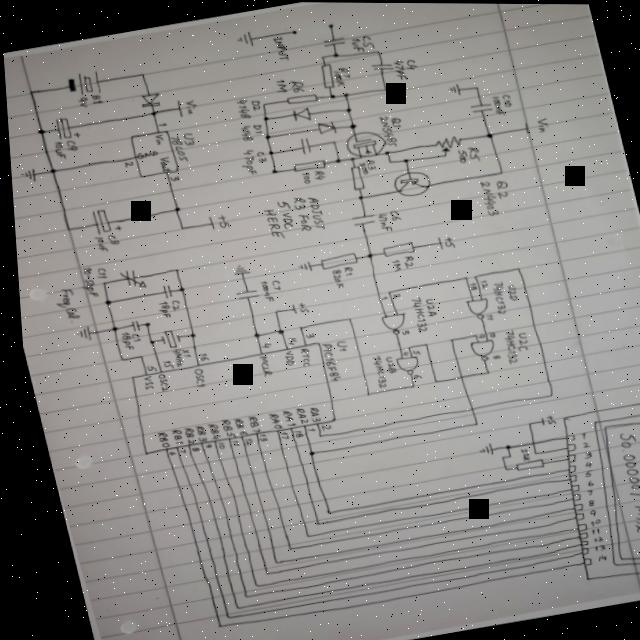capacitor: (86, 204, 121, 234), (52, 114, 80, 140), (114, 266, 144, 290), (346, 210, 374, 226), (229, 285, 256, 299), (320, 33, 347, 46), (467, 98, 491, 112), (295, 134, 311, 154), (369, 59, 393, 71), (156, 282, 171, 298), (123, 317, 137, 330)
crossover: (451, 371, 461, 378), (463, 404, 470, 410), (523, 439, 531, 444)
diode: (137, 90, 163, 108), (289, 104, 311, 122), (314, 117, 336, 134)
ground: (233, 28, 255, 47), (16, 165, 38, 184), (68, 322, 88, 341), (471, 439, 490, 456), (227, 261, 248, 275), (445, 80, 462, 95), (292, 259, 309, 272)
junction: (346, 120, 357, 128), (482, 129, 493, 137), (147, 107, 158, 115), (34, 126, 45, 134), (183, 329, 193, 337), (361, 250, 371, 257), (326, 91, 336, 98), (169, 204, 179, 211), (342, 104, 352, 111), (248, 330, 258, 337), (271, 326, 281, 333), (168, 264, 178, 271), (278, 543, 288, 550), (45, 166, 55, 173), (402, 381, 412, 388), (99, 297, 108, 304), (332, 155, 341, 162), (497, 441, 506, 448), (105, 324, 114, 331), (268, 166, 277, 173), (340, 89, 349, 96), (25, 87, 34, 94), (425, 375, 434, 382), (263, 556, 272, 563), (327, 137, 336, 144), (494, 166, 503, 173), (173, 284, 182, 291), (139, 318, 148, 325), (260, 113, 268, 120), (331, 50, 340, 56), (478, 367, 487, 373), (137, 70, 146, 76), (379, 85, 388, 91), (61, 225, 70, 231), (262, 132, 269, 139), (175, 223, 183, 229), (443, 335, 451, 341), (510, 263, 518, 269), (301, 448, 309, 454), (345, 154, 353, 160), (400, 156, 407, 162), (472, 82, 479, 88), (268, 307, 275, 313), (318, 507, 325, 513), (381, 148, 388, 154), (265, 148, 272, 154), (359, 389, 366, 395), (114, 355, 122, 360), (341, 314, 349, 319), (520, 419, 528, 424), (373, 48, 381, 53), (234, 593, 242, 598), (255, 569, 263, 574), (296, 532, 304, 537), (354, 193, 362, 198), (525, 448, 533, 453), (292, 323, 300, 328), (467, 419, 474, 424), (496, 464, 503, 469), (542, 391, 549, 396), (318, 52, 325, 57), (458, 273, 465, 278), (245, 580, 252, 585), (384, 157, 391, 162), (207, 622, 214, 627), (216, 613, 223, 618), (225, 603, 232, 608), (306, 519, 313, 524), (500, 452, 507, 457), (492, 453, 499, 458), (439, 151, 446, 156), (144, 338, 151, 343), (97, 279, 104, 284), (467, 273, 474, 278), (418, 340, 424, 345), (311, 432, 317, 437), (259, 100, 265, 105), (133, 352, 139, 357), (401, 343, 407, 348), (467, 331, 473, 336), (383, 289, 387, 293)
resistor: (313, 248, 356, 269), (430, 131, 463, 153), (377, 238, 414, 256), (290, 155, 325, 171), (283, 90, 317, 105), (317, 62, 336, 88), (345, 163, 363, 190), (507, 455, 539, 470)
source: (63, 67, 102, 97)
terminal: (174, 97, 183, 117), (203, 213, 213, 229), (521, 119, 529, 133), (433, 234, 440, 248), (286, 301, 293, 313), (533, 414, 540, 424), (289, 27, 298, 34), (327, 21, 334, 27)
text: (605, 427, 640, 534), (46, 285, 78, 323), (475, 177, 499, 215), (402, 294, 426, 332), (315, 341, 336, 381), (72, 264, 96, 298), (495, 327, 517, 363), (259, 205, 282, 239), (289, 194, 310, 231), (303, 194, 324, 230), (376, 112, 397, 146), (485, 279, 505, 313), (273, 197, 293, 228), (167, 132, 187, 163), (365, 352, 383, 386), (236, 147, 257, 175), (271, 33, 291, 61), (251, 352, 269, 376), (233, 95, 251, 118), (254, 277, 271, 301), (508, 328, 526, 350), (186, 365, 203, 387), (391, 57, 407, 80), (372, 211, 390, 231), (491, 177, 509, 197), (214, 416, 230, 438), (293, 345, 310, 365), (419, 294, 434, 316), (327, 266, 342, 288), (150, 371, 166, 391), (90, 232, 106, 252), (152, 298, 168, 318), (114, 330, 130, 350), (261, 409, 277, 429), (275, 406, 291, 426), (226, 415, 242, 435), (489, 93, 503, 115), (149, 429, 165, 448), (288, 404, 304, 423), (277, 347, 293, 365), (301, 403, 317, 421), (200, 421, 216, 439), (163, 426, 179, 444), (463, 143, 479, 161), (349, 35, 365, 53), (236, 122, 252, 140), (176, 424, 191, 443), (166, 346, 180, 366), (287, 77, 304, 93), (182, 97, 198, 114), (156, 153, 171, 171), (50, 140, 64, 159), (378, 353, 392, 372), (241, 413, 255, 431), (188, 423, 202, 441), (533, 115, 548, 131), (136, 373, 151, 389), (212, 212, 227, 228), (272, 77, 287, 93), (179, 130, 194, 146), (501, 282, 515, 299), (330, 68, 344, 85), (360, 32, 374, 48), (134, 147, 156, 157), (103, 231, 118, 245), (91, 265, 106, 279), (291, 298, 306, 312), (398, 253, 413, 267), (335, 64, 350, 78), (454, 146, 467, 162), (62, 137, 76, 151), (266, 276, 279, 291), (439, 233, 452, 248), (387, 114, 402, 127), (330, 337, 345, 350), (512, 444, 524, 460), (75, 94, 89, 107), (385, 207, 399, 220), (386, 257, 399, 271), (402, 56, 417, 68), (165, 296, 178, 309), (362, 156, 375, 169), (150, 131, 164, 143), (310, 167, 324, 179), (298, 169, 310, 183), (356, 159, 367, 174), (500, 91, 511, 106), (248, 97, 261, 109), (286, 426, 299, 438), (253, 149, 266, 161), (156, 357, 169, 369), (89, 92, 102, 104), (249, 121, 262, 133), (192, 351, 206, 362), (125, 330, 137, 341), (581, 516, 595, 525), (539, 412, 550, 423), (339, 264, 350, 275), (575, 447, 587, 457), (120, 158, 133, 167), (176, 346, 187, 356), (282, 334, 293, 344), (482, 328, 494, 337), (576, 466, 588, 475), (314, 421, 326, 430), (586, 541, 599, 549), (255, 339, 268, 347), (154, 119, 166, 127), (582, 525, 594, 533), (588, 551, 600, 559), (475, 277, 484, 287), (580, 506, 590, 515), (273, 429, 283, 438), (252, 431, 262, 440), (210, 439, 220, 448), (140, 362, 151, 370), (585, 533, 596, 541), (300, 329, 311, 337), (167, 173, 178, 181), (406, 371, 418, 378), (465, 280, 474, 289), (238, 435, 247, 444), (576, 458, 586, 466), (579, 497, 589, 505), (184, 443, 195, 450), (470, 331, 482, 337), (480, 311, 490, 318), (575, 439, 585, 446), (224, 438, 234, 445), (395, 327, 405, 334), (388, 290, 397, 297), (574, 429, 581, 438), (579, 477, 588, 484), (407, 347, 416, 354), (579, 487, 587, 494), (172, 446, 181, 452), (375, 294, 385, 299), (487, 352, 496, 357), (301, 425, 310, 430), (197, 442, 206, 447), (161, 449, 170, 454), (396, 349, 405, 354)
transistor: (340, 125, 388, 159), (388, 165, 434, 198)
